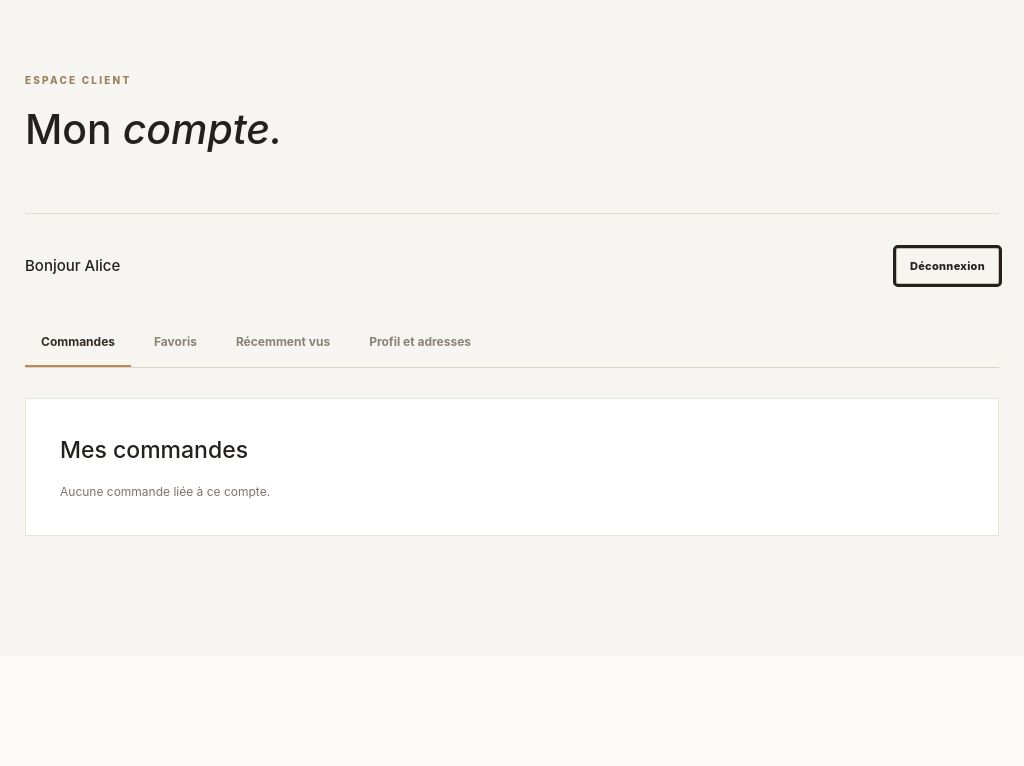
Test: enregistre le profil et traite une erreur=false
This screenshot has width=1024, height=766.
Expected: the heading "Bonjour Alice" is shown, [25,255,120,277]
Click the button "Profil et adresses" at (420, 343), box [353,319,487,367]
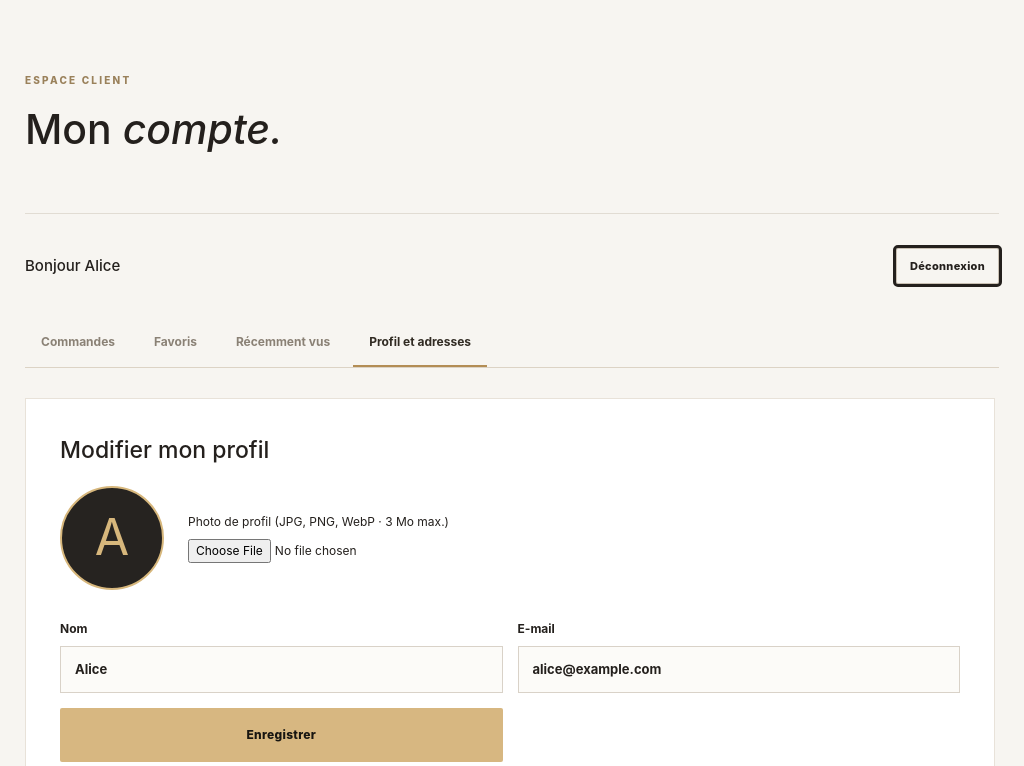
Replace the text in the field labelled "Nom" with "Alice Martin" at (281, 669), box [60,646,502,693]
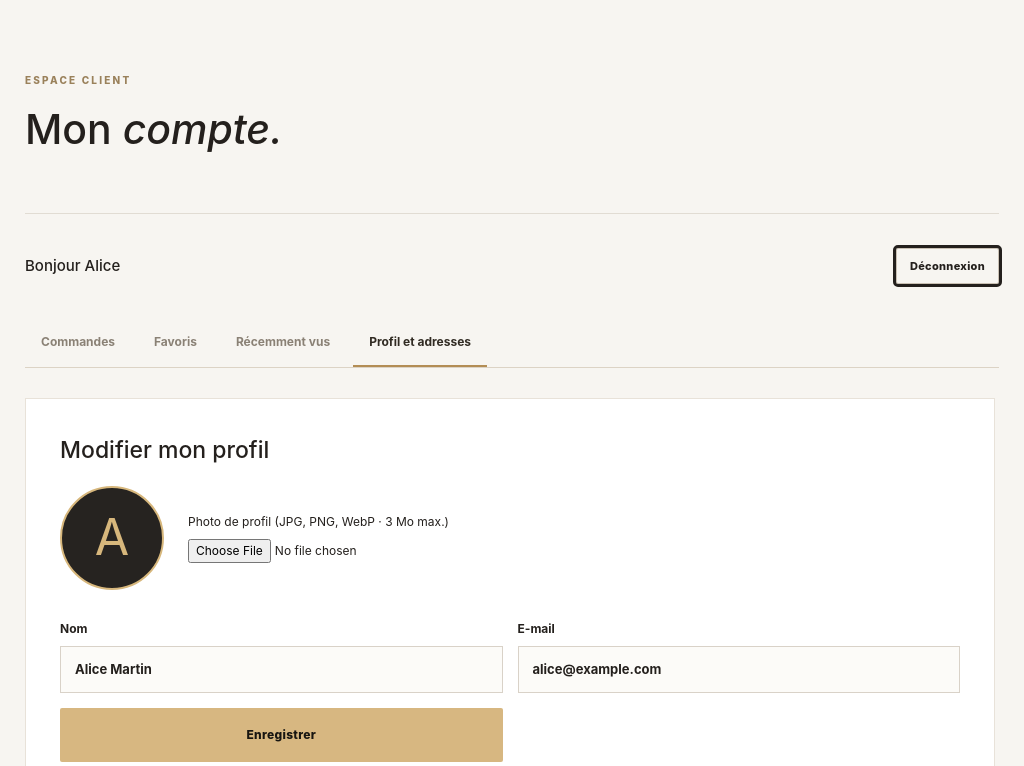
Click the button "Enregistrer" at (281, 735), box [60,708,502,762]
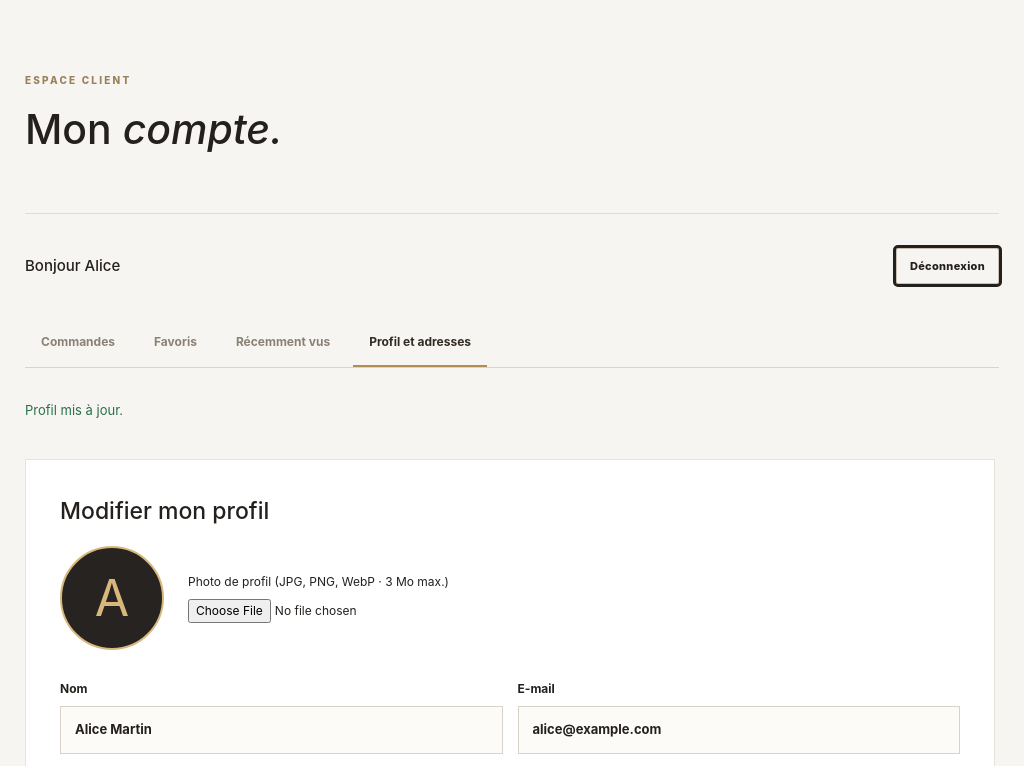
Expected: the text "Profil mis à jour." is shown, [25,402,123,418]
